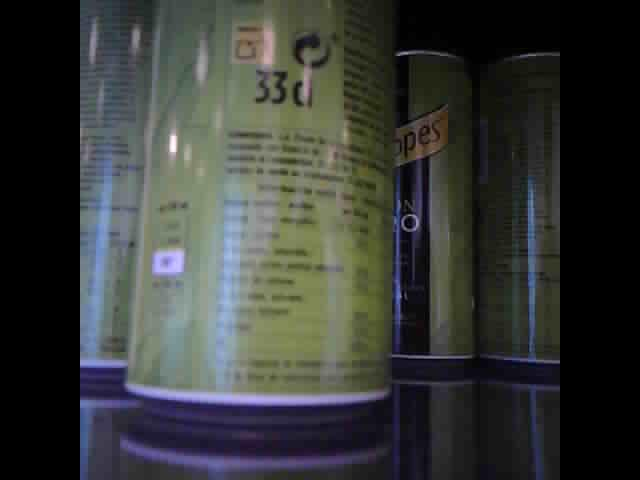schweppes: (119, 2, 399, 423), (391, 32, 474, 364), (79, 5, 151, 376), (478, 41, 559, 369)
